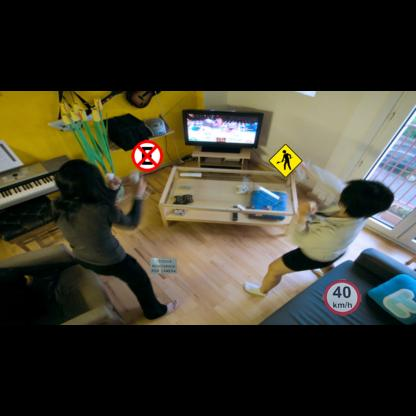A-24: (268, 144, 303, 178)
I-E: (150, 258, 177, 274)
R-19: (323, 279, 361, 316)
R-6c: (131, 140, 163, 172)
